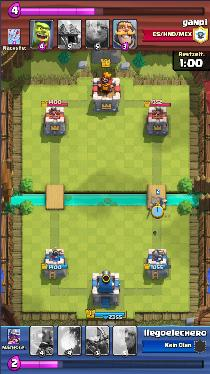ally_knight: (149, 197, 167, 213)
